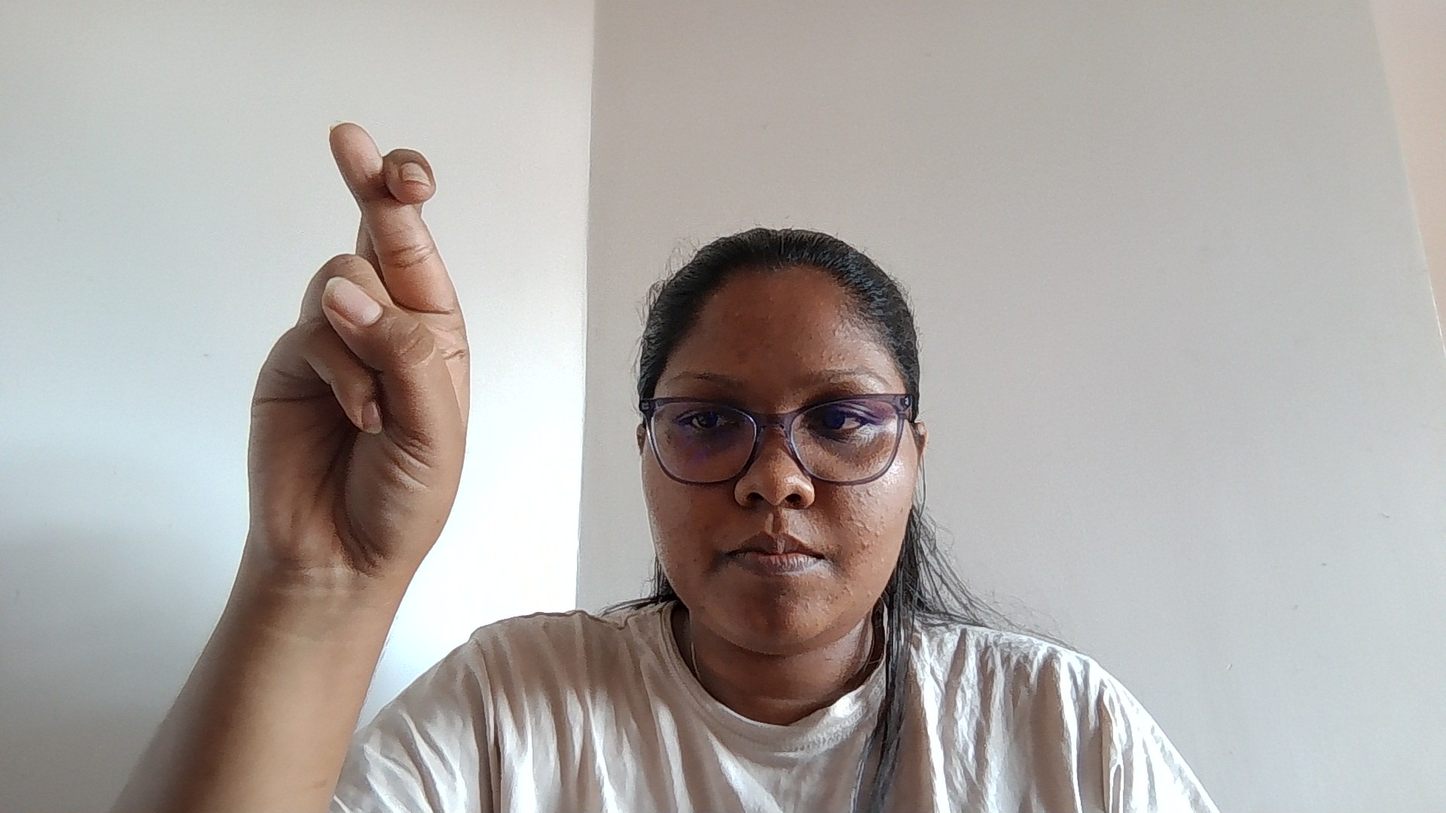Good_Luck: (158, 85, 585, 638)
